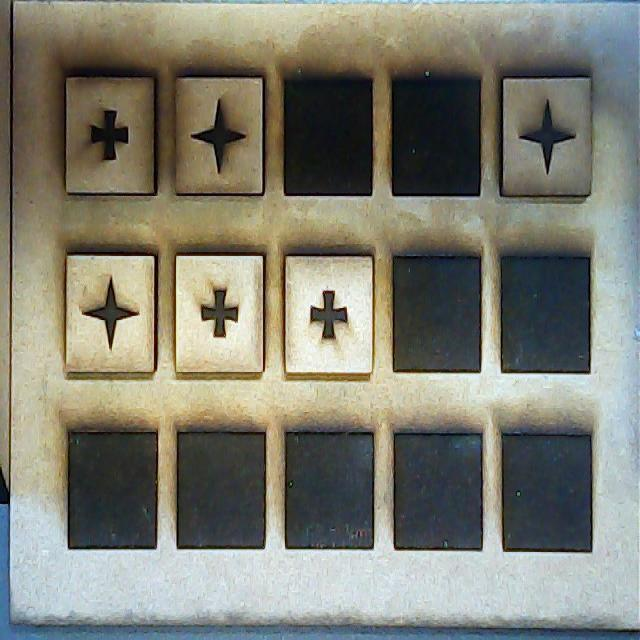star: (172, 76, 268, 196), (64, 254, 155, 374), (503, 79, 594, 197)
temple: (66, 76, 162, 196), (177, 252, 266, 376), (286, 254, 372, 378)
